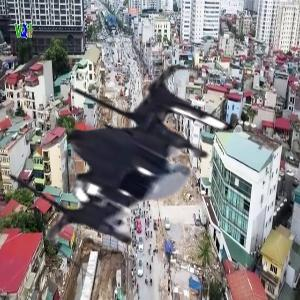drone: (5, 38, 258, 291)
